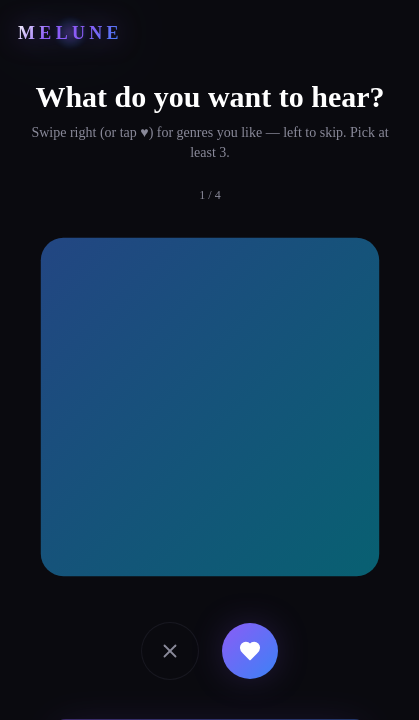
OnboardingPage (Tinder-style swipe deck) › tapping Like advances to the next card and counts toward the selection
Click the button named "Like Lo-fi": (250, 651) top-left (222, 623), bottom-right (278, 679)
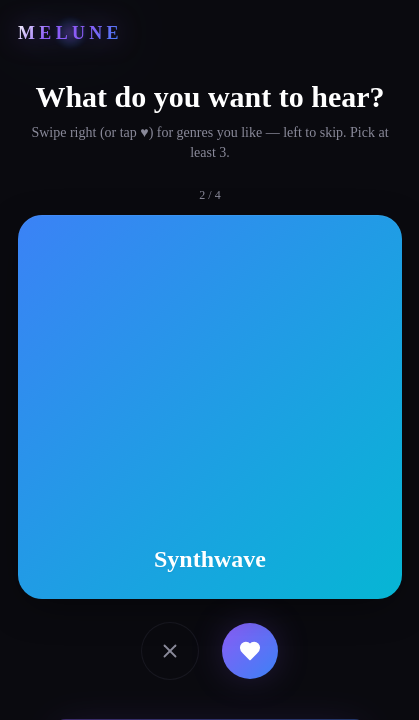
Expected: the text "Synthwave" is shown, top-left (154, 543), bottom-right (266, 575)
